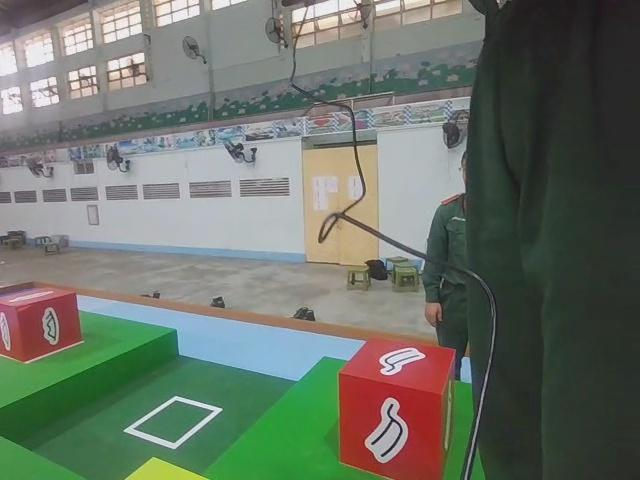R2 Real: (337, 336, 457, 480), (0, 288, 82, 362)
